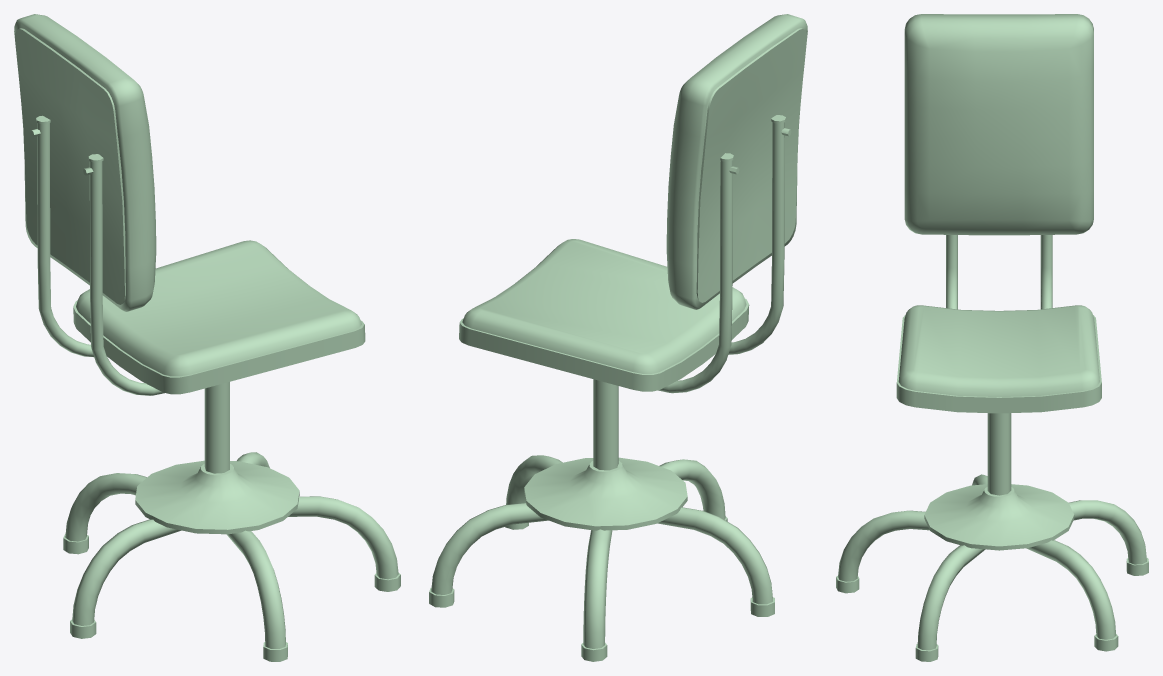
Rendered from office_chair_1940_01.fbx.
3 views of the same model, side by side, from view 1: azimuth 30°, elevation 25°; view 2: azimuth 150°, elevation 25°; view 3: azimuth 270°, elevation 25° (orthographic). The views are drawn at different scales.
Visible parts, largest first — view 1: office_chair_1940_01; view 2: office_chair_1940_01; view 3: office_chair_1940_01.
Boxes of the visible parts, x1,y1,x2,y2 form: office_chair_1940_01: [14, 14, 400, 661]; office_chair_1940_01: [429, 14, 807, 661]; office_chair_1940_01: [836, 14, 1148, 661].
Size of the model in its own units: 2505 by 4593 by 2505.
